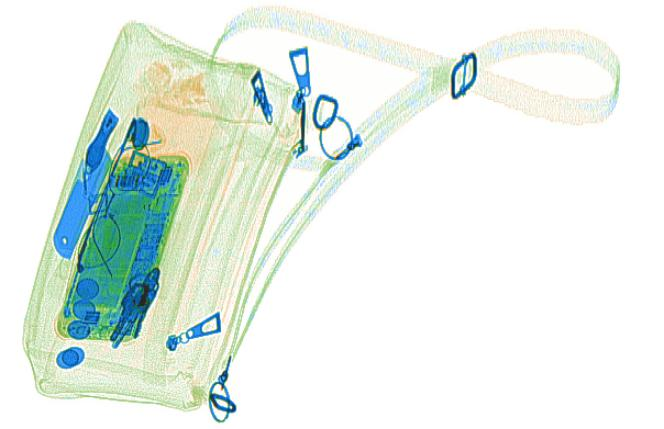knife: (51, 143, 114, 262)
